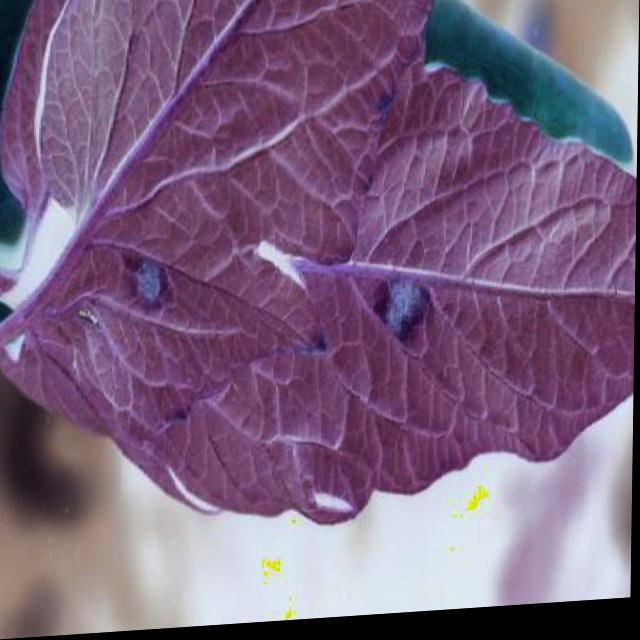Tomato mold leaf: (29, 41, 638, 548), (0, 0, 469, 449)
